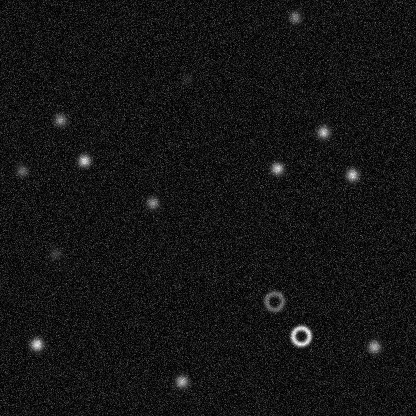Ring: (288, 323, 312, 347), (262, 289, 286, 313)
Spot: (315, 124, 331, 140), (344, 166, 360, 182), (28, 336, 44, 352), (52, 111, 68, 127), (178, 70, 194, 86), (144, 194, 160, 210), (47, 245, 63, 261), (286, 9, 302, 25), (173, 373, 189, 389), (76, 152, 92, 168), (13, 162, 29, 178), (269, 160, 285, 176), (366, 338, 382, 354)
